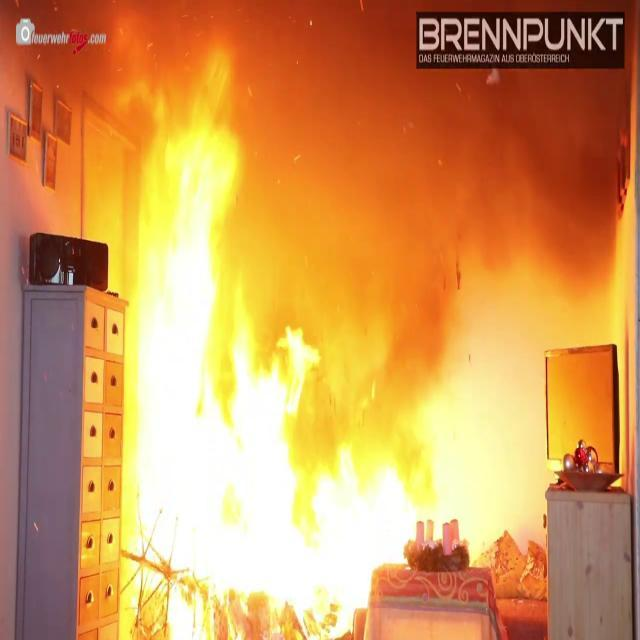Fire: (118, 71, 520, 614)
